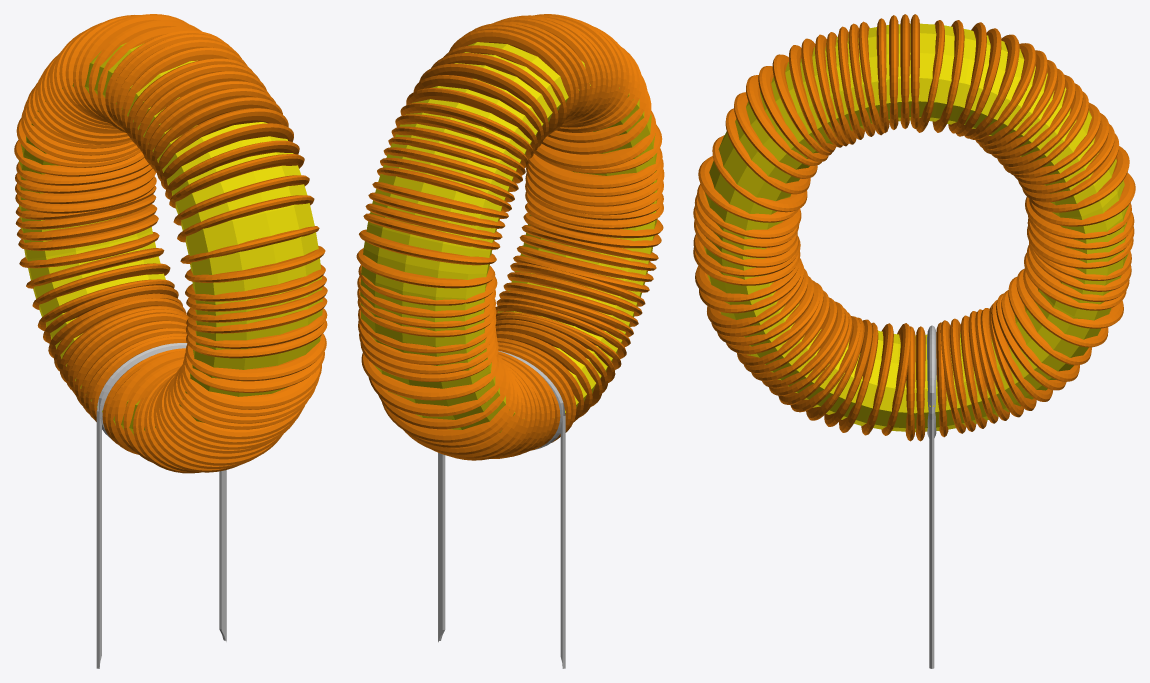
Rendered from inductor.glb.
3 views of the same model, side by side, from view 1: azimuth 30°, elevation 25°; view 2: azimuth 150°, elevation 25°; view 3: azimuth 270°, elevation 25° (orthographic). The views are drawn at different scales.
Bounding box in the file's own units: 1.34 × 6.18 × 4.03.
